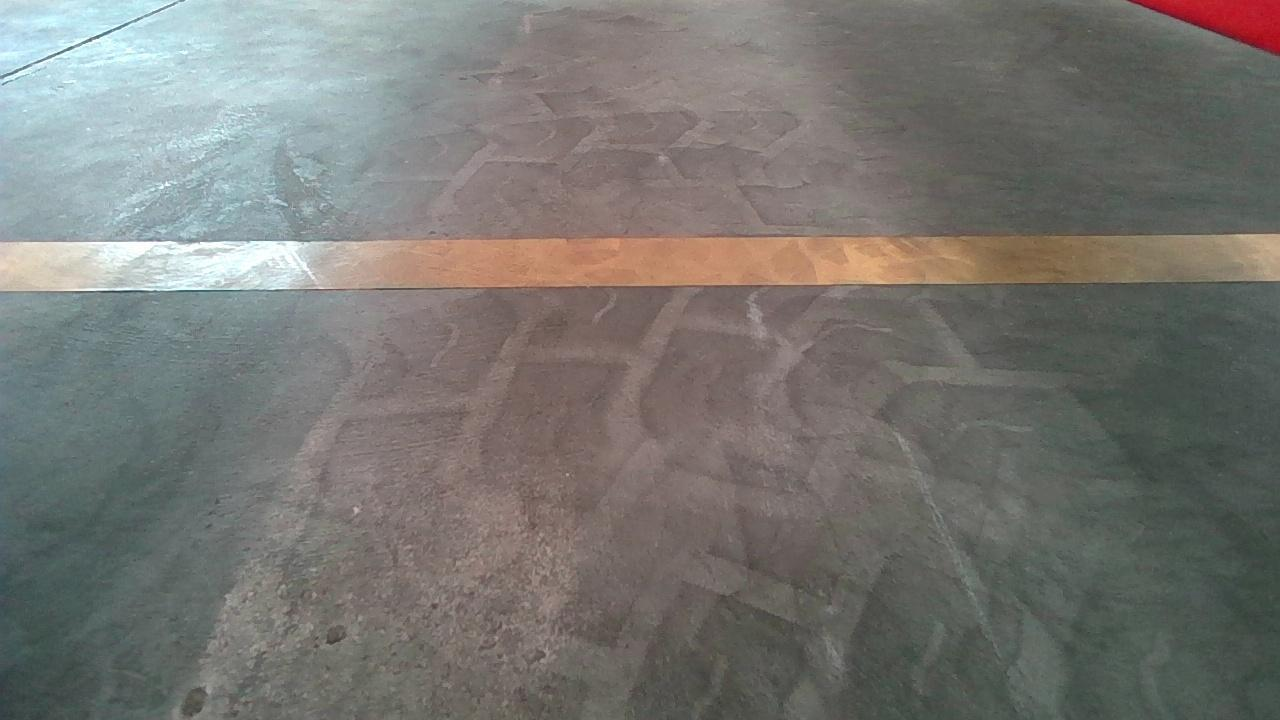yellow_line: (22, 226, 1279, 290)
